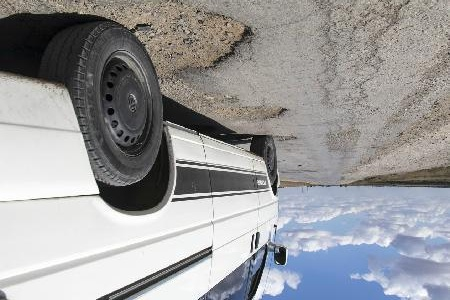pothole: (114, 2, 257, 81), (213, 102, 289, 123), (270, 134, 298, 144)
